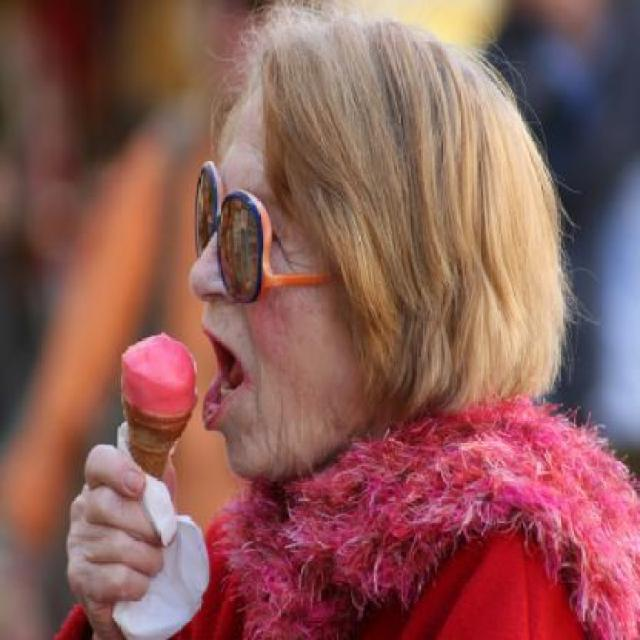face_nomask: (165, 166, 306, 428)
glasses: (188, 166, 329, 320)
hand_noglove: (41, 421, 197, 610)
head_nohelmet: (180, 9, 545, 156)
